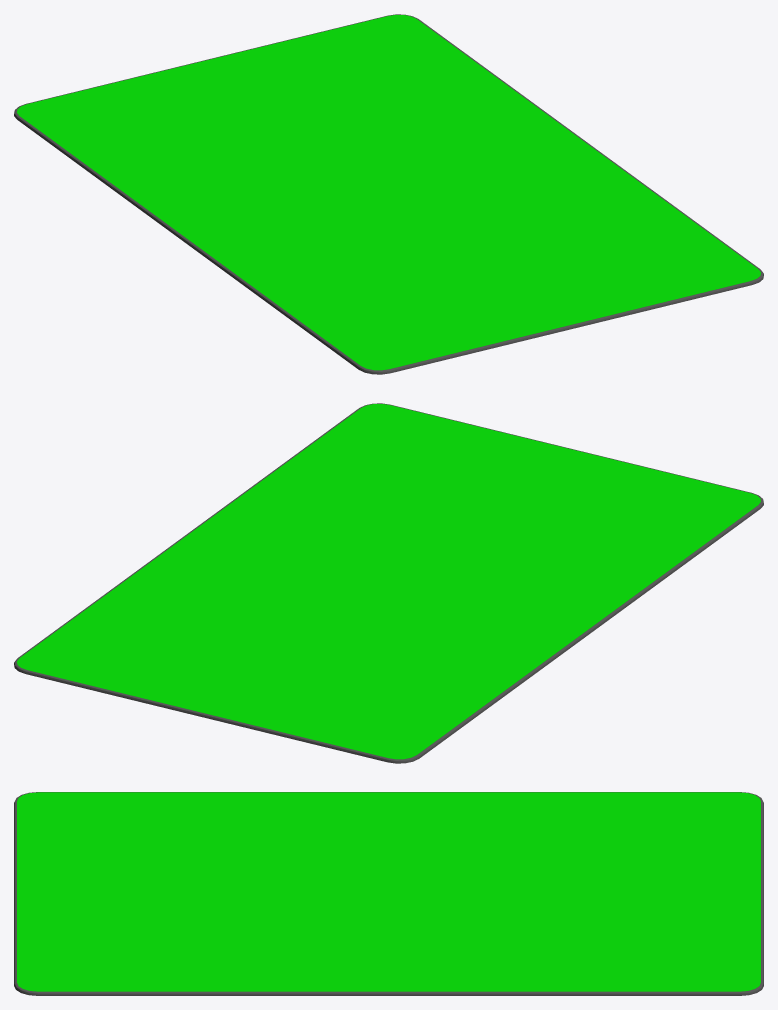
The model's file is PAD03_LP_FBX.fbx.
3 renders of one model, top to bottom at view 1: azimuth 30°, elevation 25°; view 2: azimuth 150°, elevation 25°; view 3: azimuth 270°, elevation 25°, orthographic. The views are drawn at different scales.
Parts seen in each view (by area): view 1: pCube36; view 2: pCube36; view 3: pCube36.
Part boxes in pixels (x1,y1,x2,y2): pCube36: (14,14,763,374); pCube36: (14,403,763,763); pCube36: (14,792,763,995).
Bounding box in the file's own units: 2100 × 15 × 3300.
